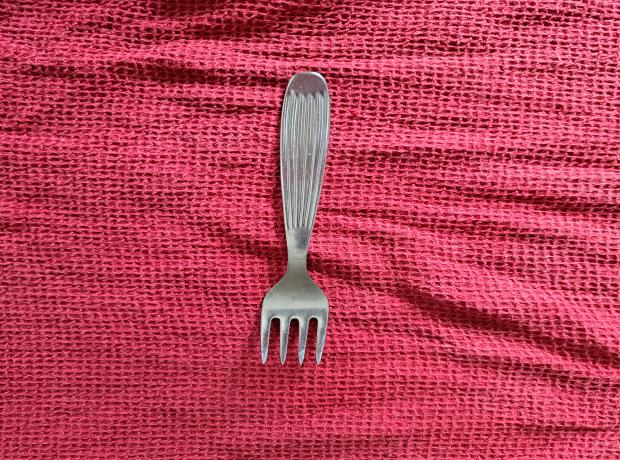metal: (254, 67, 338, 366)
